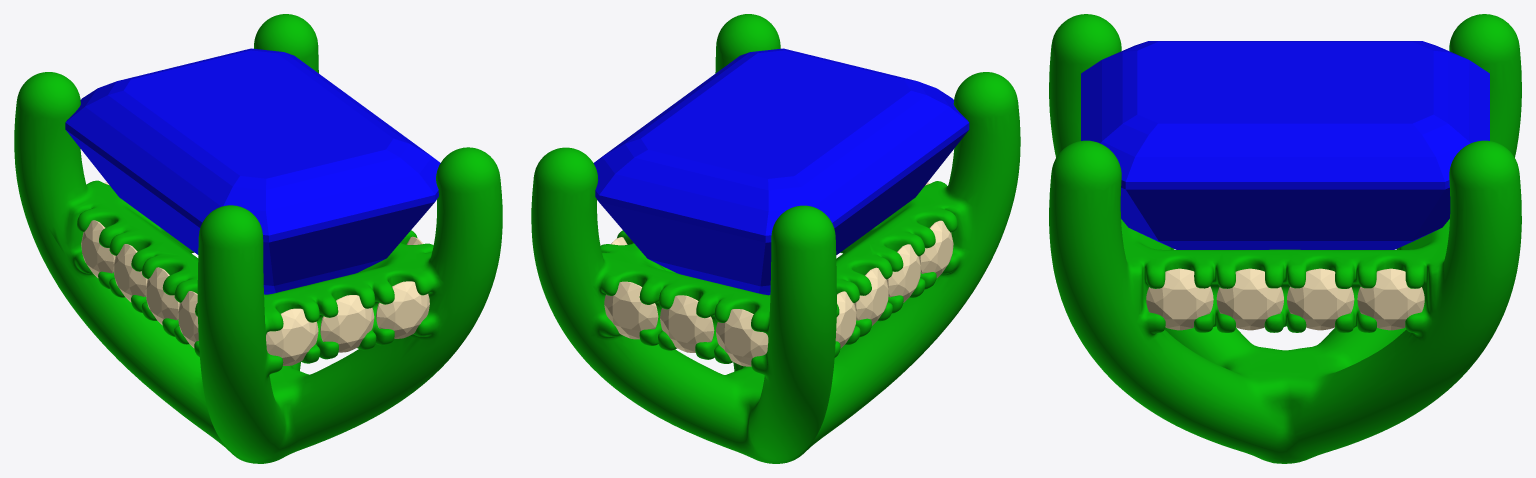
3 renders of one model, left to right at view 1: azimuth 30°, elevation 25°; view 2: azimuth 150°, elevation 25°; view 3: azimuth 270°, elevation 25°, orthographic. The views are drawn at different scales.
Parts seen in each view (by area): view 1: Metal01, Diamond_Emerald, Diamond_Round.005, Diamond_Round.006, Diamond_Round.004, Diamond_Round.009, Diamond_Round.010, Diamond_Round.007, Diamond_Round.008; view 2: Metal01, Diamond_Emerald, Diamond_Round.011, Diamond_Round.012, Diamond_Round.013, Diamond_Round.007, Diamond_Round.008, Diamond_Round.009, Diamond_Round.010; view 3: Metal01, Diamond_Emerald, Diamond_Round.002, Diamond_Round, Diamond_Round.001, Diamond_Round.003.
Boxes of the visible parts, x1=… form: Metal01: x1=14, y1=14, x2=502, y2=463; Diamond_Emerald: x1=65, y1=48, x2=440, y2=294; Diamond_Round.005: x1=320, y1=295, x2=374, y2=352; Diamond_Round.006: x1=376, y1=281, x2=429, y2=338; Diamond_Round.004: x1=266, y1=308, x2=318, y2=365; Diamond_Round.009: x1=113, y1=244, x2=147, y2=302; Diamond_Round.010: x1=81, y1=220, x2=115, y2=278; Diamond_Round.007: x1=145, y1=267, x2=179, y2=325; Diamond_Round.008: x1=177, y1=291, x2=198, y2=348; Metal01: x1=531, y1=14, x2=1020, y2=463; Diamond_Emerald: x1=593, y1=48, x2=969, y2=295; Diamond_Round.011: x1=660, y1=295, x2=714, y2=352; Diamond_Round.012: x1=604, y1=281, x2=658, y2=339; Diamond_Round.013: x1=716, y1=309, x2=768, y2=366; Diamond_Round.007: x1=886, y1=244, x2=921, y2=302; Diamond_Round.008: x1=919, y1=220, x2=953, y2=278; Diamond_Round.009: x1=854, y1=267, x2=888, y2=325; Diamond_Round.010: x1=835, y1=291, x2=856, y2=348; Metal01: x1=1049, y1=14, x2=1521, y2=463; Diamond_Emerald: x1=1081, y1=41, x2=1489, y2=249; Diamond_Round.002: x1=1216, y1=268, x2=1283, y2=330; Diamond_Round: x1=1357, y1=268, x2=1424, y2=330; Diamond_Round.001: x1=1287, y1=268, x2=1354, y2=330; Diamond_Round.003: x1=1146, y1=268, x2=1213, y2=330.
Size of the model in its own units: 5.56 by 6.15 by 7.03.
